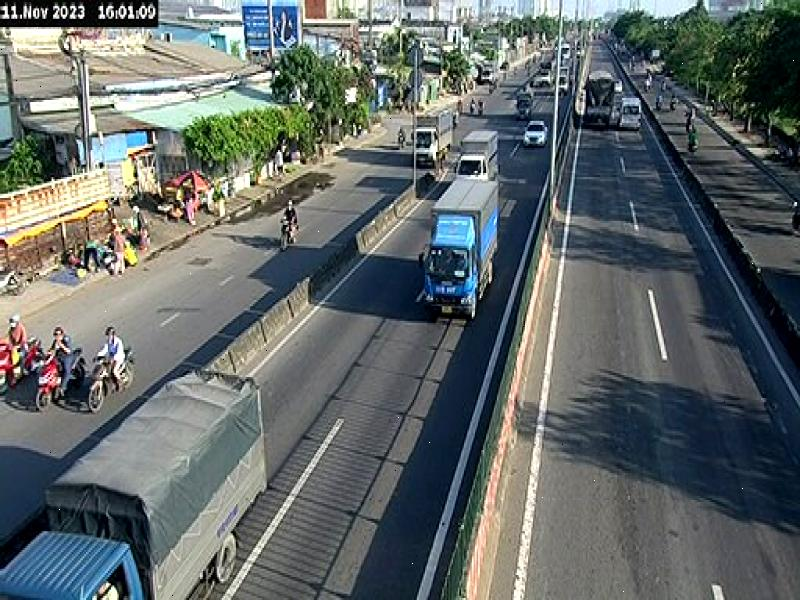truck: (0, 362, 270, 600), (420, 172, 501, 319), (412, 102, 457, 169), (455, 121, 503, 183)
